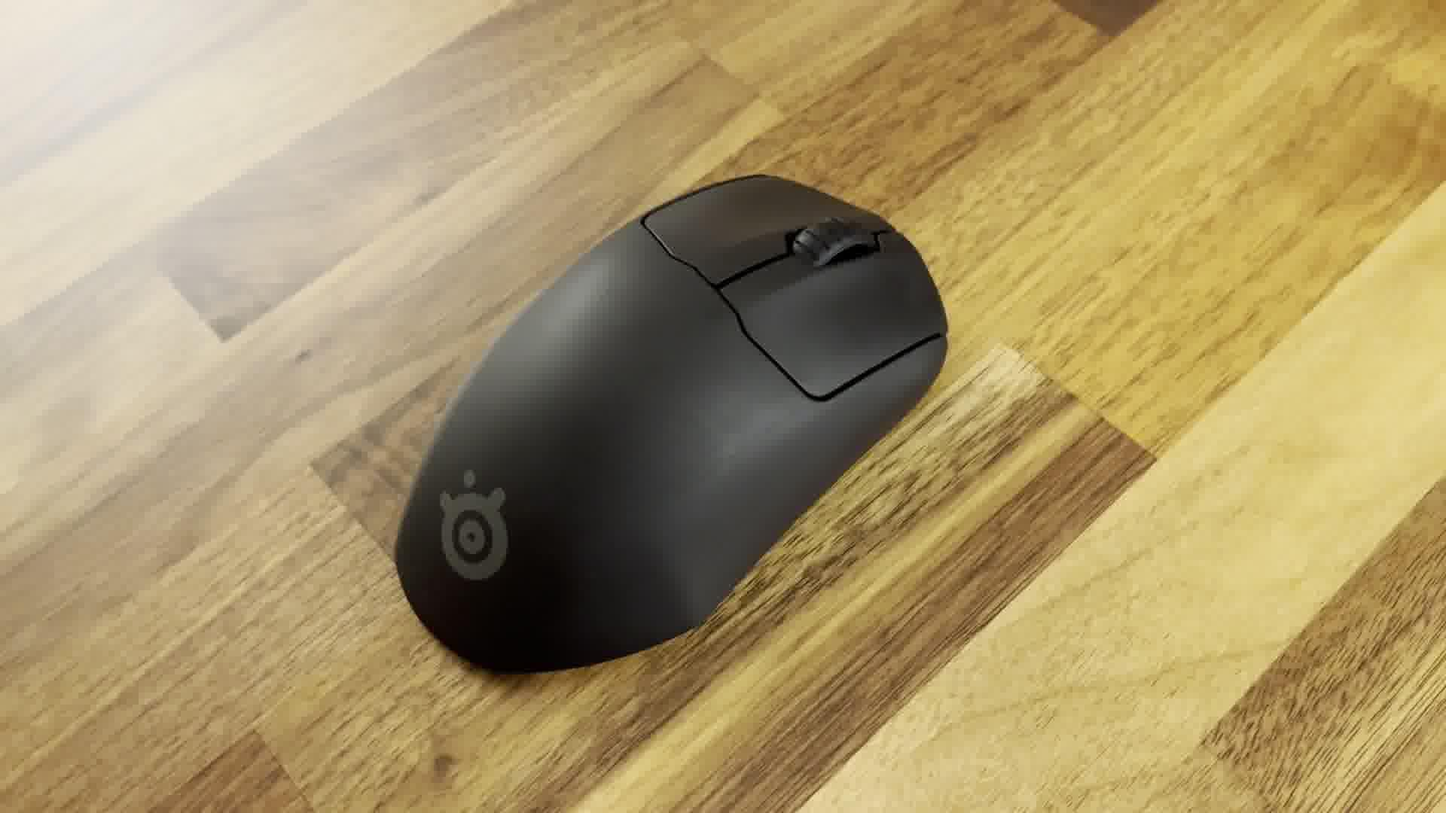mouse: (388, 163, 954, 684)
